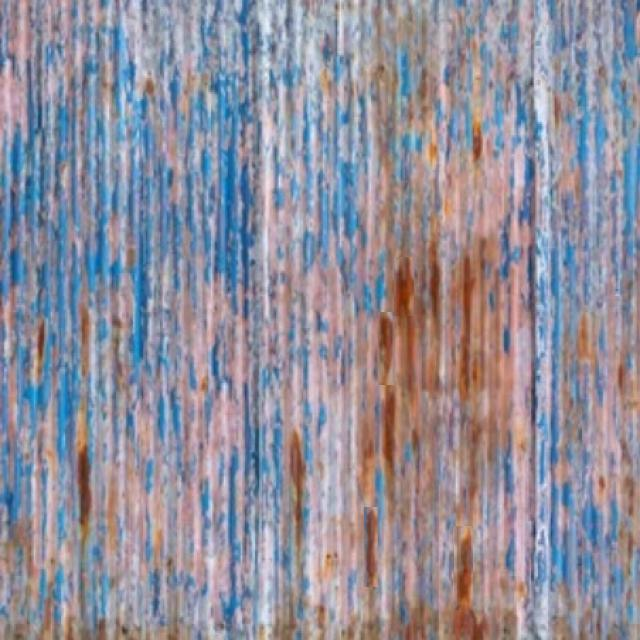Corrosion: (418, 241, 442, 370), (286, 430, 307, 564), (459, 255, 476, 402), (380, 386, 397, 476), (77, 445, 91, 544), (391, 256, 413, 318), (457, 526, 474, 599), (379, 312, 394, 386), (366, 508, 379, 590)
